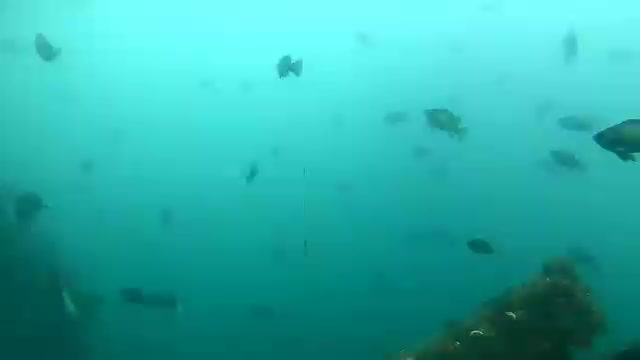smallfish: (416, 102, 494, 157), (550, 146, 606, 183), (276, 48, 308, 83)
